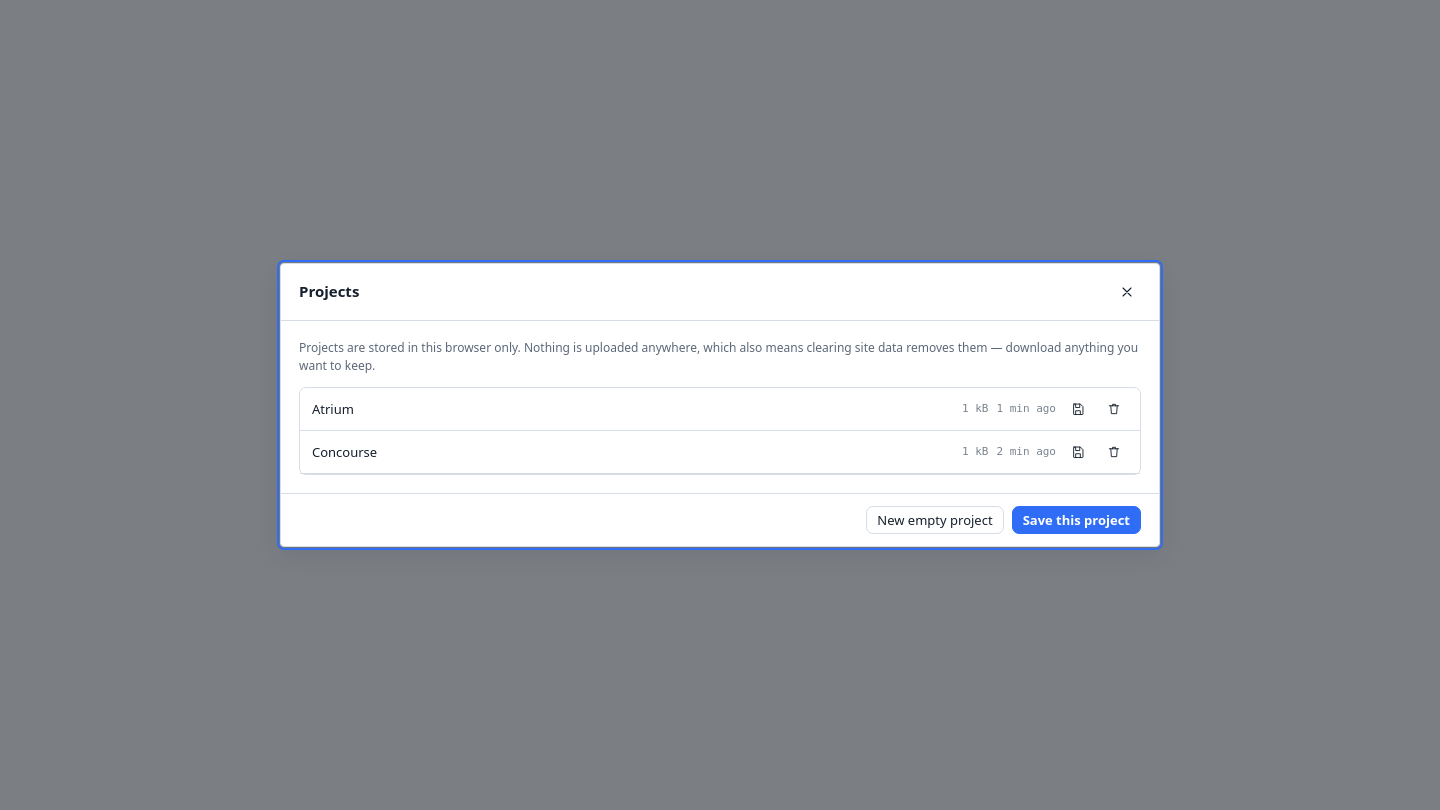
removing and starting over › deletes only the project the button sits on, and does not open it on the way
Expected: the text "Atrium" is shown, [312,400,354,418]
Click the button titled "Delete this project" next to "1 min ago". click: x=1114, y=409
box: [1100,395,1128,423]
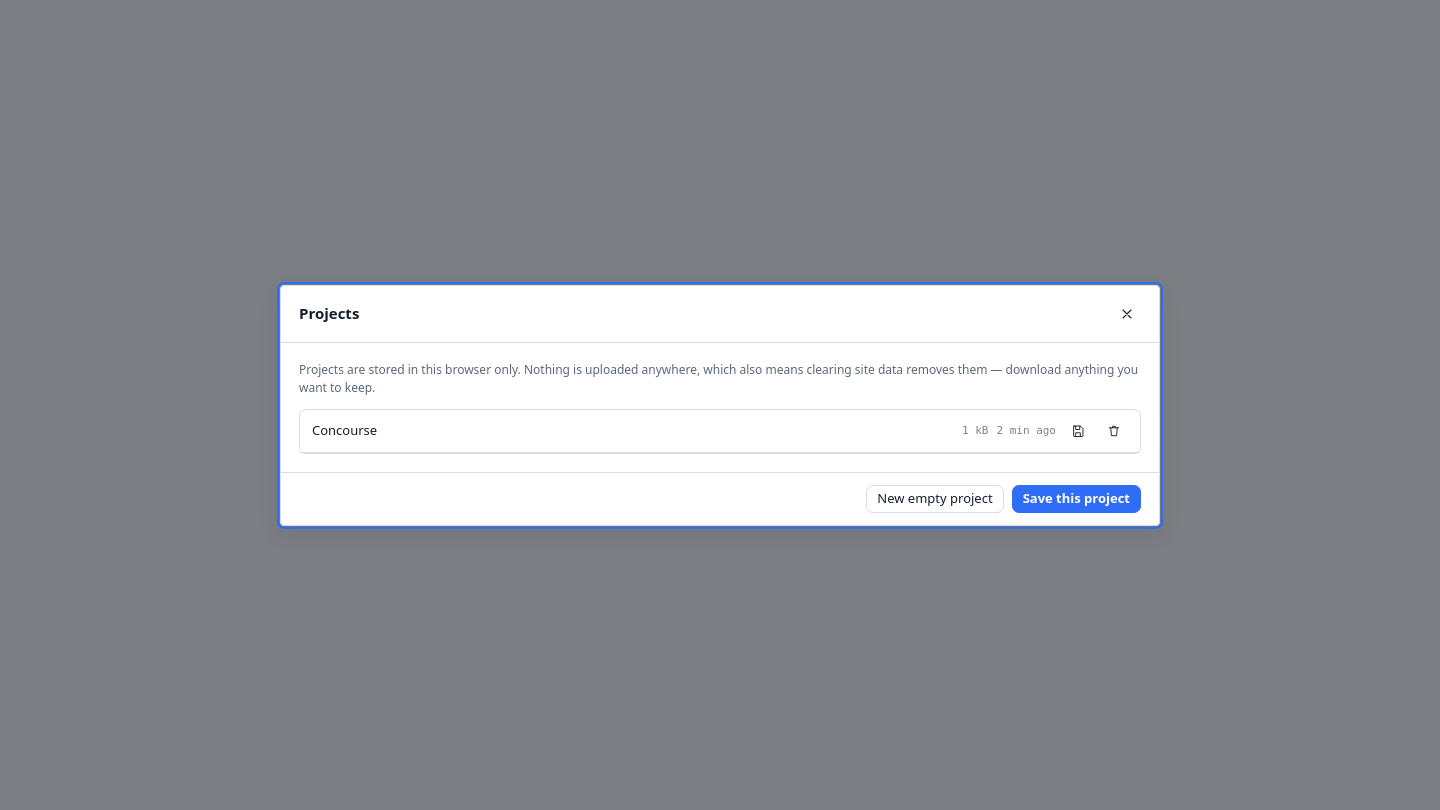
Expected: the text "Concourse" is shown, [312,421,377,439]
Expected: the text "Atrium" is gone
